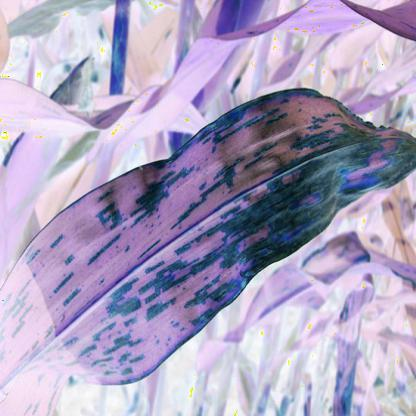Corn Gray leaf spot: (25, 89, 416, 392)
